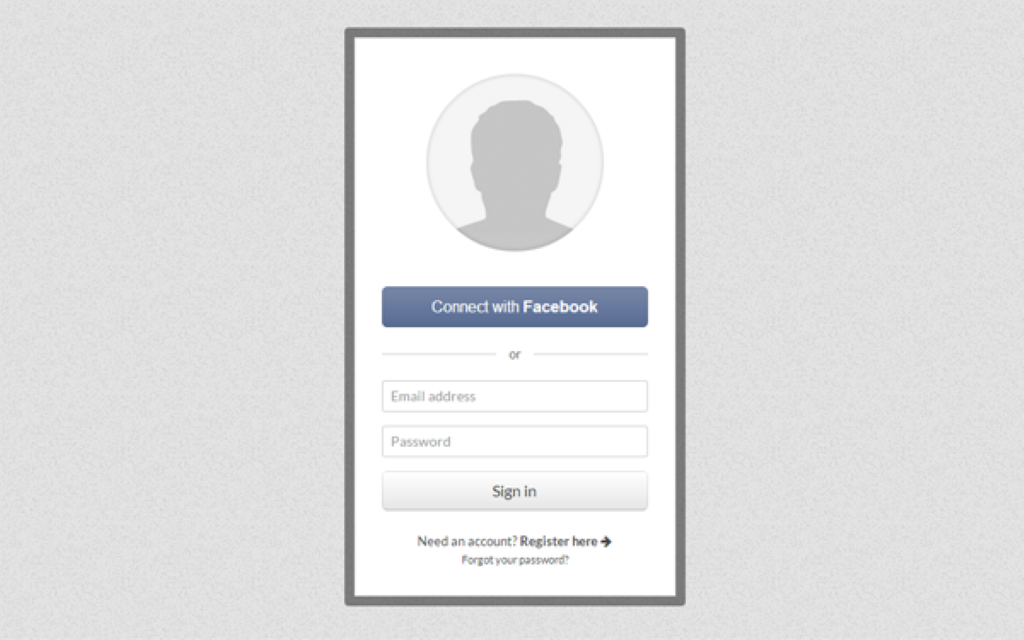button: (383, 286, 648, 327), (383, 472, 650, 510)
button_SignIn: (384, 472, 654, 513)
label_SignIn: (490, 481, 540, 504)
label_email: (387, 387, 427, 405)
label_password: (390, 433, 455, 452)
textbox: (383, 378, 646, 412), (382, 426, 648, 457)
textbox_Email: (382, 378, 646, 414)
textbox_Password: (382, 429, 648, 457)
